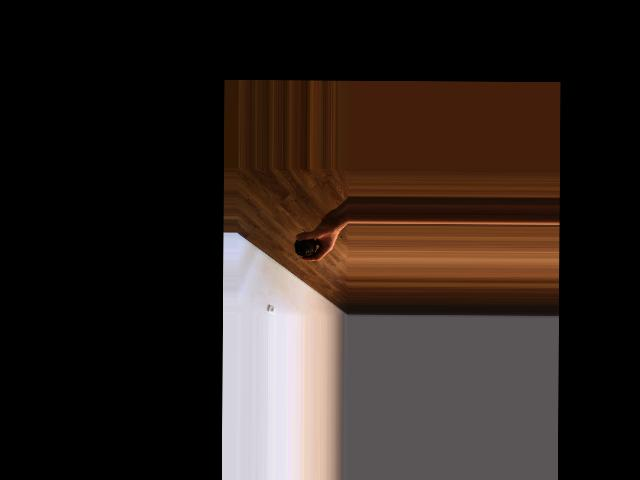beet: (293, 228, 316, 257)
